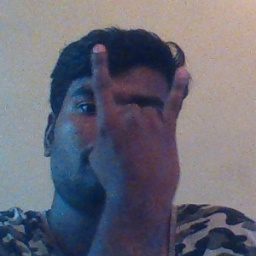V: (85, 42, 196, 201)
